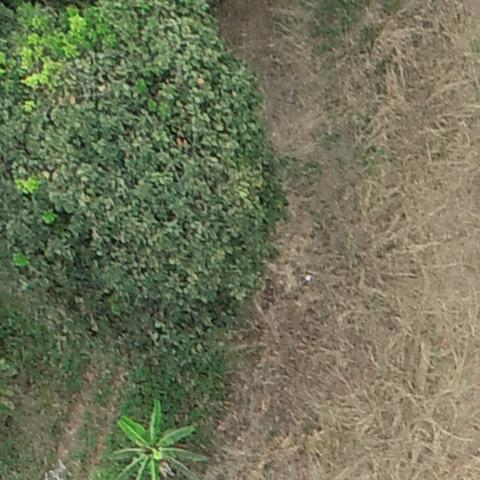Banana-plant: (108, 402, 209, 480)
